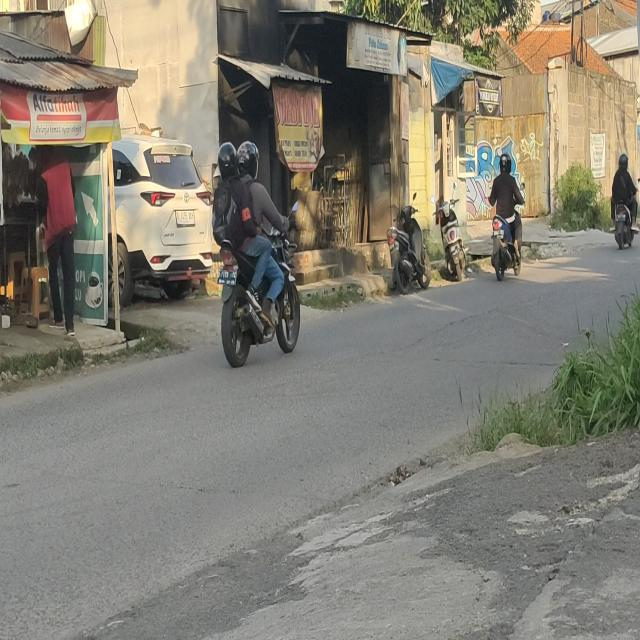helmet: (238, 138, 258, 178), (218, 142, 238, 177), (500, 151, 512, 174), (618, 152, 628, 173)
